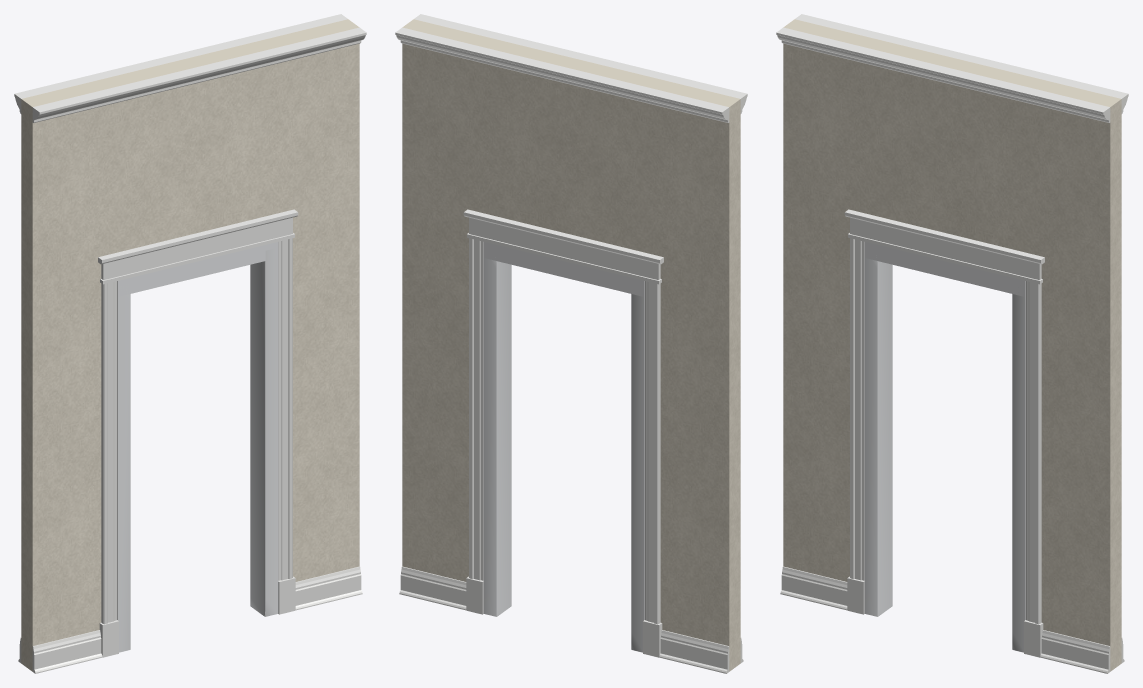
Rendered from interior_wall_doorway.glb.
3 renders of one model, left to right at view 1: azimuth 30°, elevation 25°; view 2: azimuth 150°, elevation 25°; view 3: azimuth 330°, elevation 25°, orthographic.
Parts seen in each view (by area): view 1: interior_wall_doorway_plaster, molduras, interior_wall_doorway_frame; view 2: interior_wall_doorway_plaster, molduras, interior_wall_doorway_frame; view 3: interior_wall_doorway_plaster, molduras, interior_wall_doorway_frame.
Part boxes in pixels (box(x1,y1,x2,y2)): interior_wall_doorway_plaster: box(21, 19, 359, 671); molduras: box(14, 14, 366, 673); interior_wall_doorway_frame: box(117, 242, 278, 652); interior_wall_doorway_plaster: box(402, 19, 740, 671); molduras: box(395, 14, 747, 673); interior_wall_doorway_frame: box(483, 242, 644, 652); interior_wall_doorway_plaster: box(783, 19, 1121, 671); molduras: box(776, 14, 1128, 673); interior_wall_doorway_frame: box(864, 242, 1025, 652).
Size of the model in its own units: 2 by 3.3 by 0.27.
Materials: 3 (1 with a texture image).
